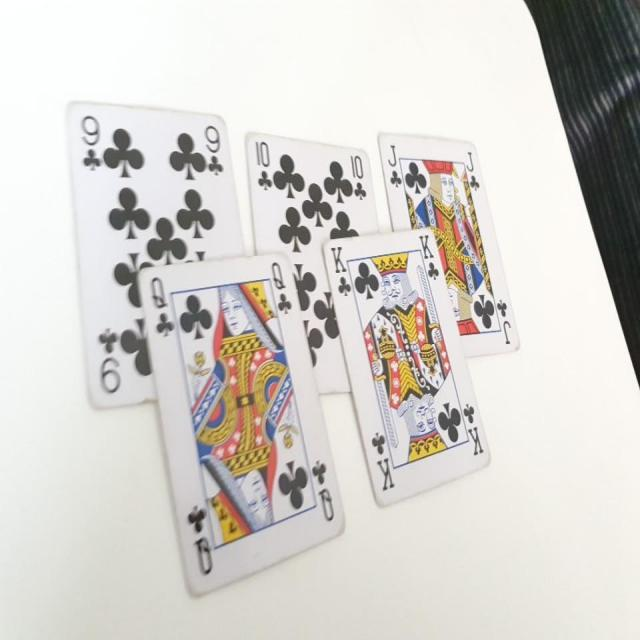10 of clubs: (245, 128, 381, 398)
9 of clubs: (66, 95, 246, 408)
jack of clubs: (377, 130, 520, 358)
king of clubs: (321, 226, 492, 506)
queen of clubs: (134, 246, 348, 603)
